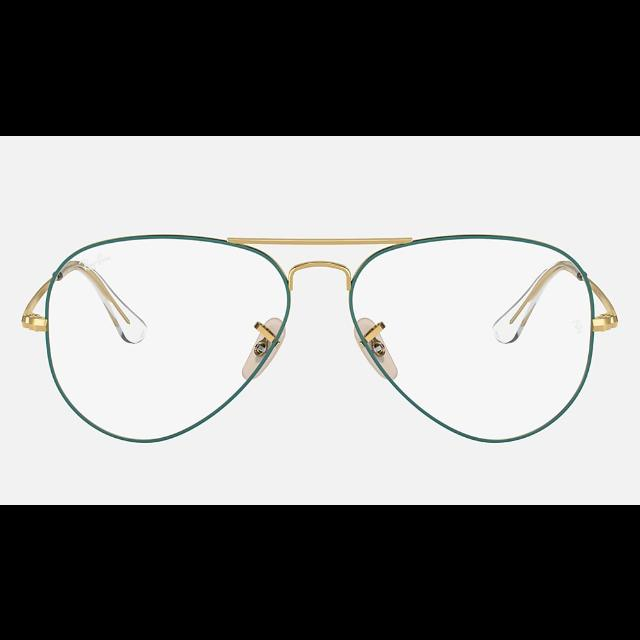glasses: (21, 230, 620, 442)
